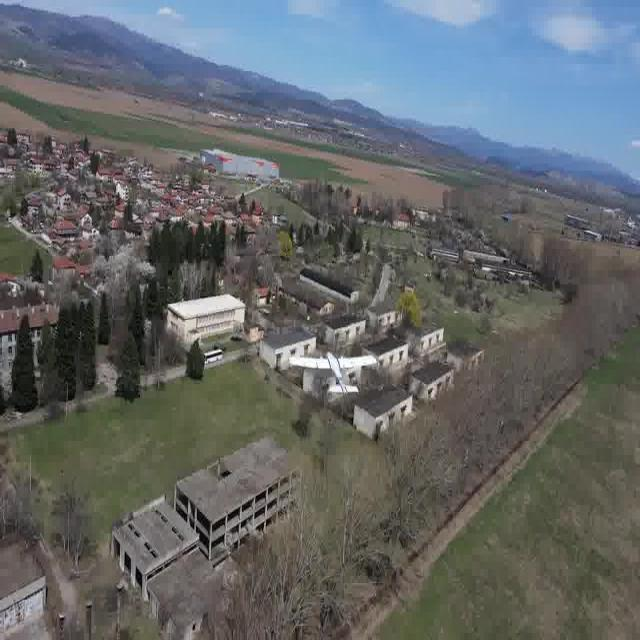iha: (320, 346, 346, 406)
